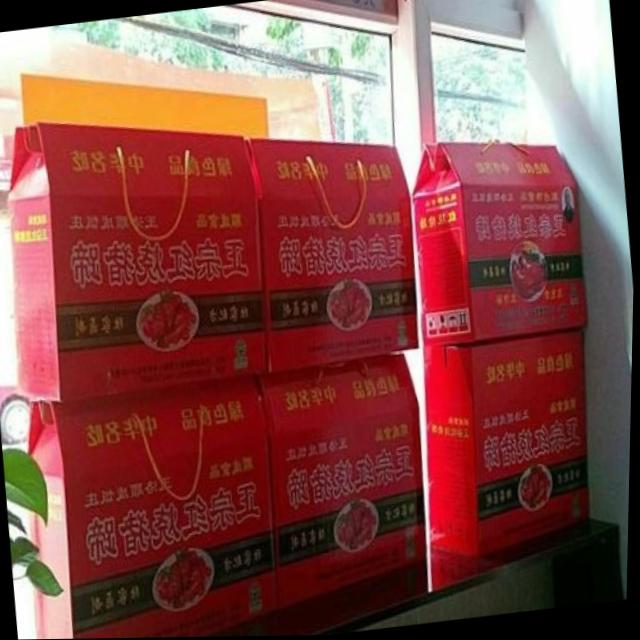box: (6, 122, 267, 403), (29, 375, 279, 639), (260, 355, 427, 614), (246, 138, 420, 374), (425, 328, 592, 563), (413, 143, 588, 349)
